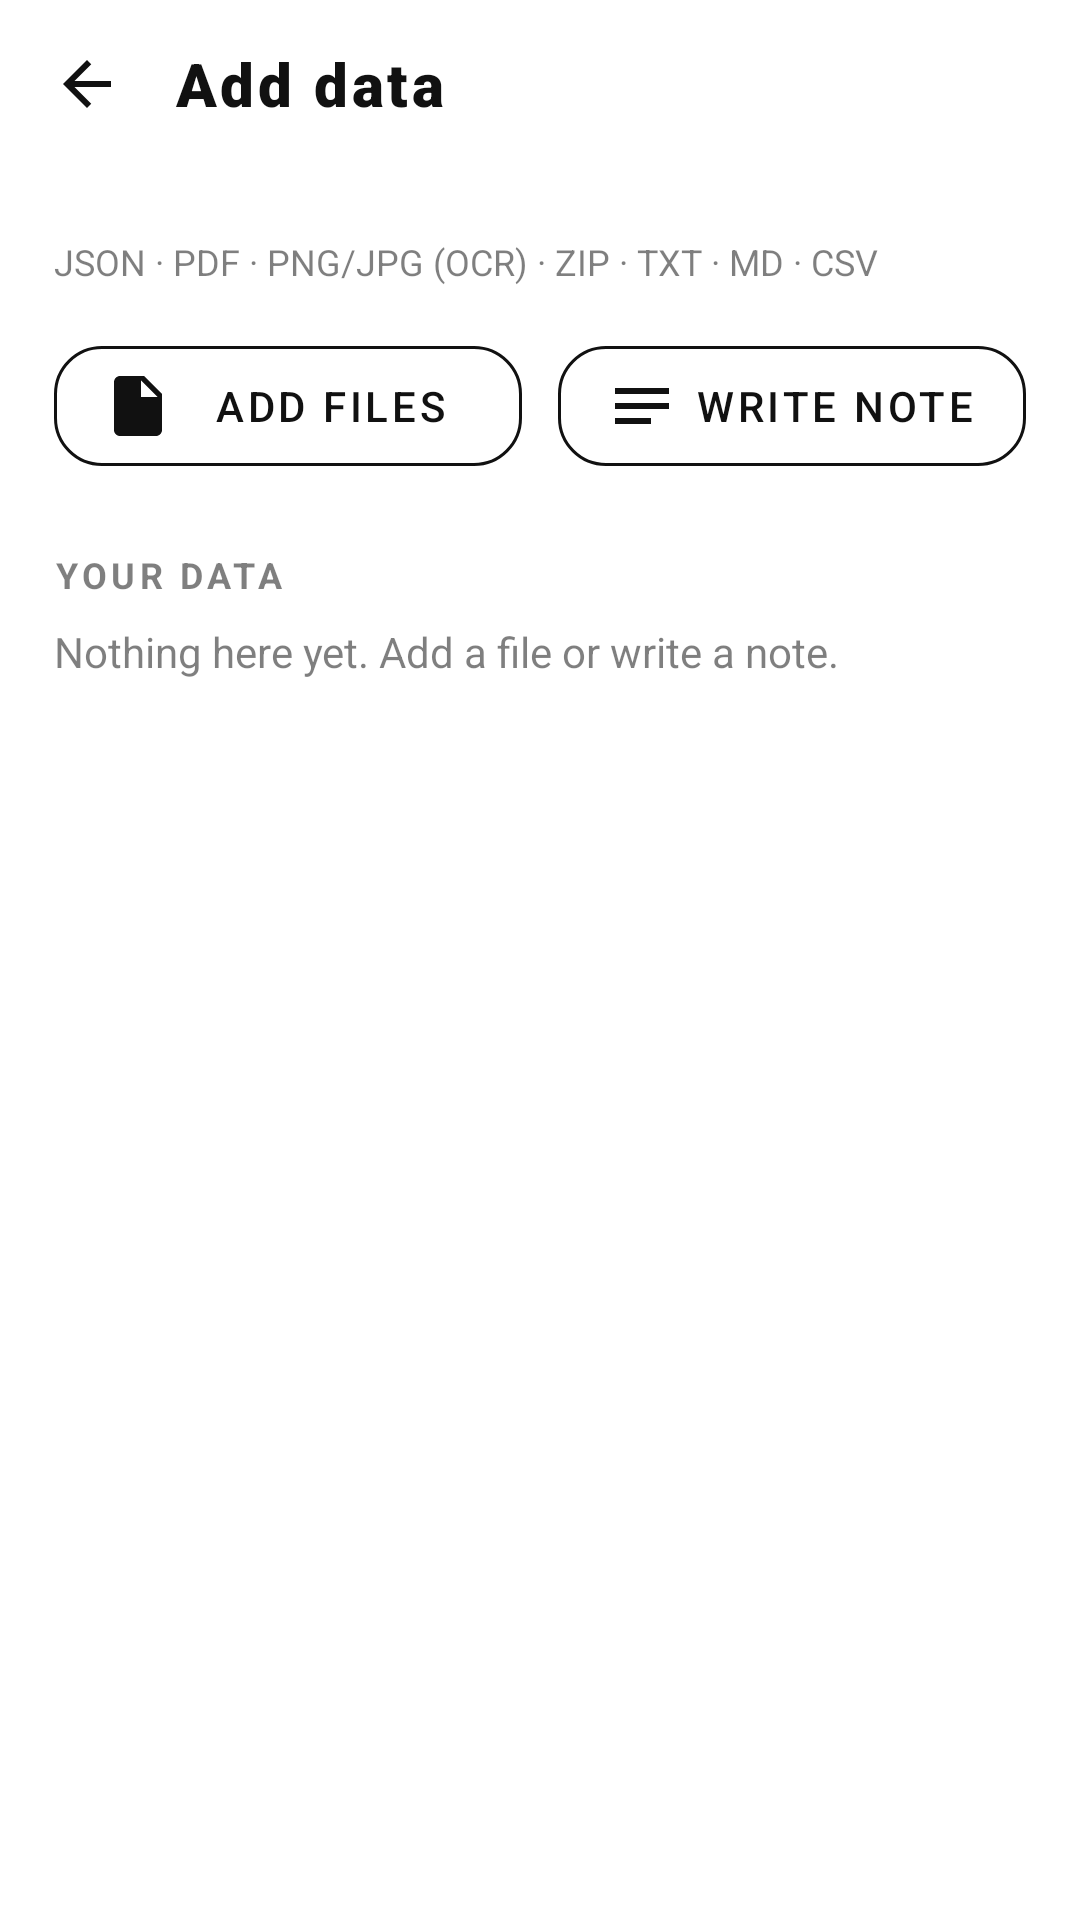

Point at icon controls on the screen. Image size 1080*1920, points as (x,y).
back: (87,84)
